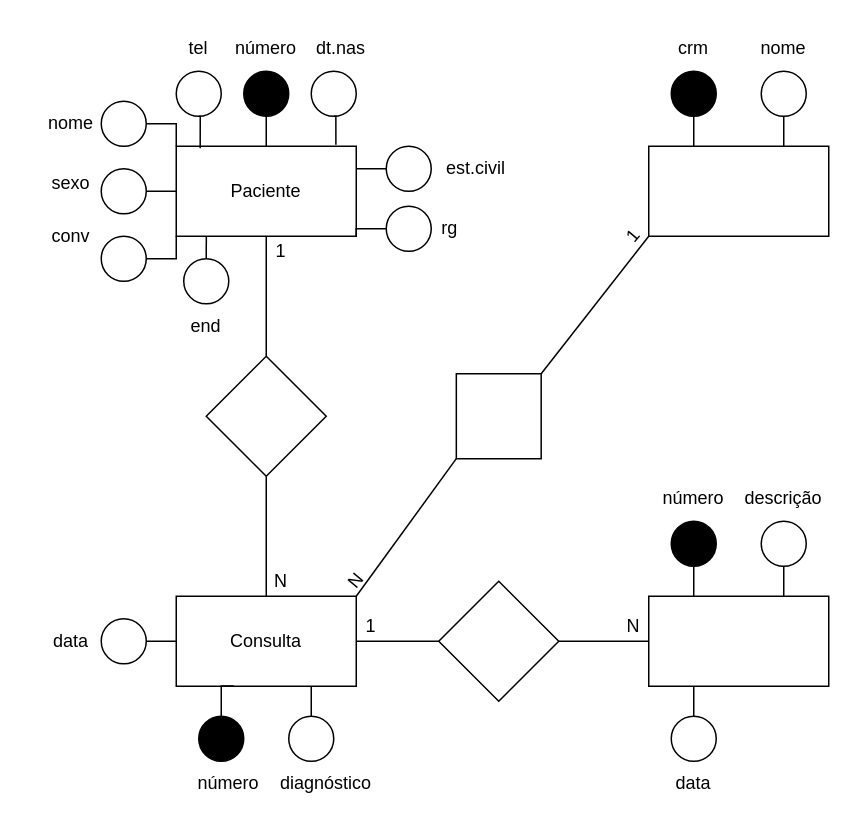
This 855x831 diagram has some shape labels left out. The shapes that lost their labels are listed below. From the top down, each one's centre as x and y in pixels, then its label:
At point (738, 190): "Médico".
At point (738, 640): "Exame".
